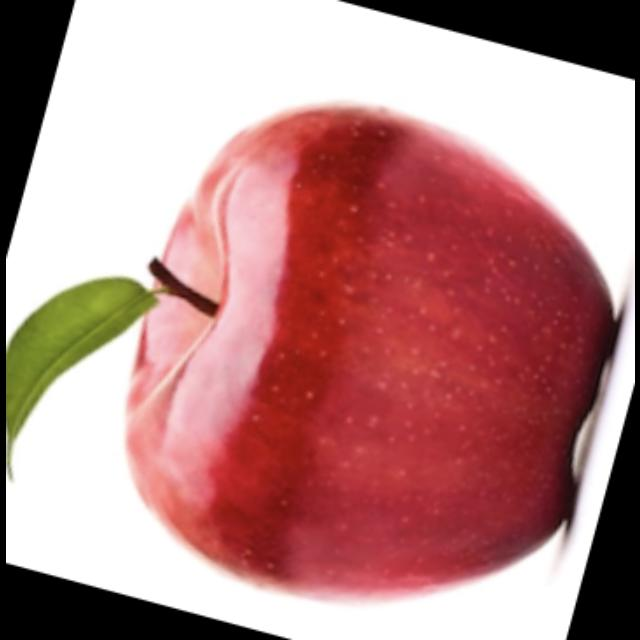Apel Segar: (114, 92, 626, 610)
